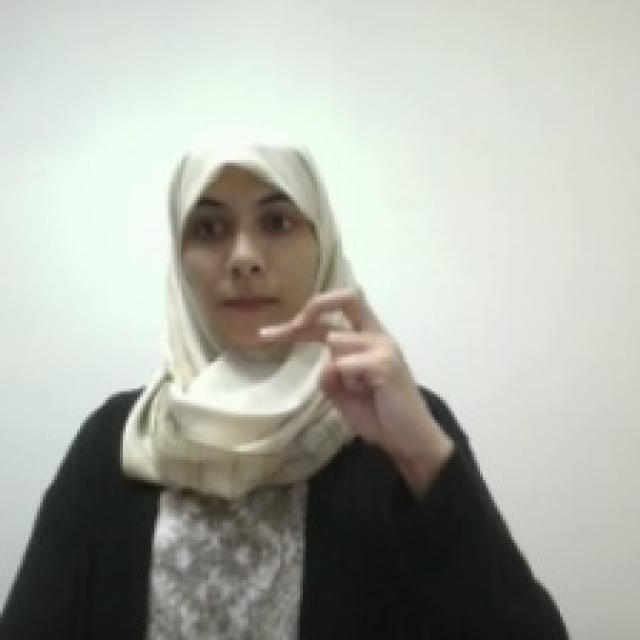sunday: (258, 284, 414, 432)
